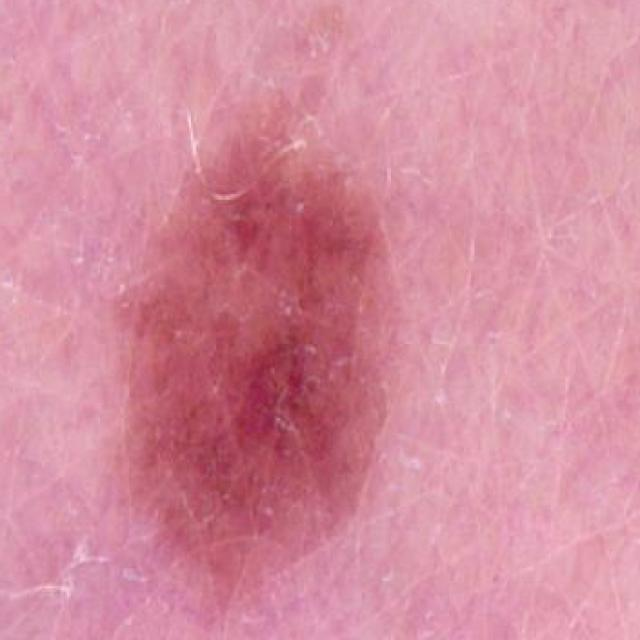NV: (38, 108, 491, 610)
